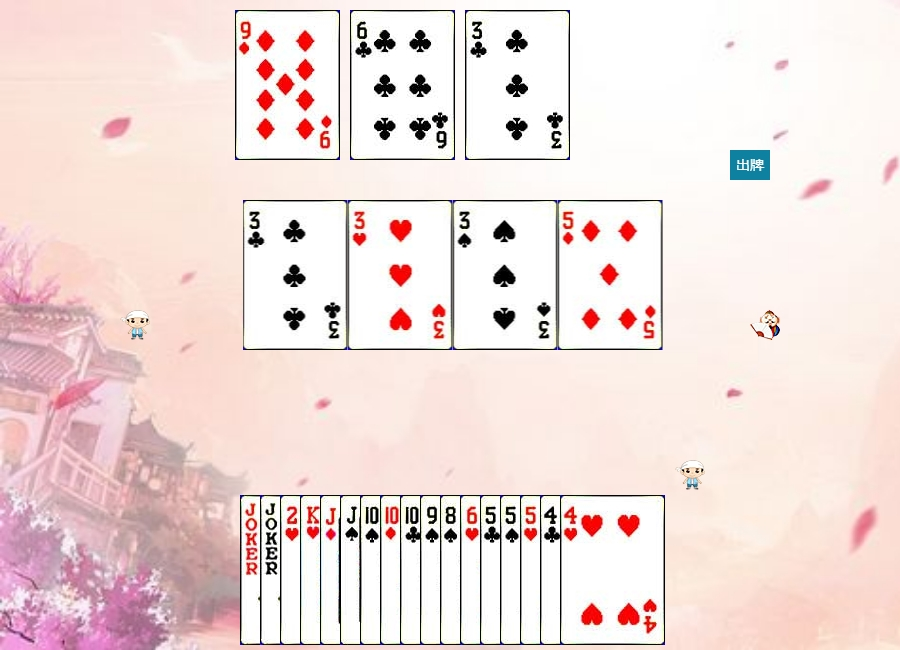10~1: (380, 495, 485, 645)
10~2: (400, 495, 505, 645)
10~4: (360, 495, 465, 645)
11~1: (320, 495, 425, 645)
11~4: (340, 495, 445, 645)
13~3: (300, 495, 405, 645)
15~3: (280, 495, 385, 645)
17~3: (260, 495, 365, 645)
18~4: (240, 495, 345, 645)
3~2: (465, 10, 570, 160), (243, 200, 348, 350)
3~3: (348, 200, 453, 350)
3~4: (453, 200, 558, 350)
4~2: (540, 495, 645, 645)
4~3: (560, 495, 665, 645)
5~1: (558, 200, 663, 350)
5~2: (480, 495, 585, 645)
5~3: (520, 495, 625, 645)
5~4: (500, 495, 605, 645)
6~2: (350, 10, 455, 160)
6~3: (460, 495, 565, 645)
8~4: (440, 495, 545, 645)
9~1: (235, 10, 340, 160)
9~4: (420, 495, 525, 645)
